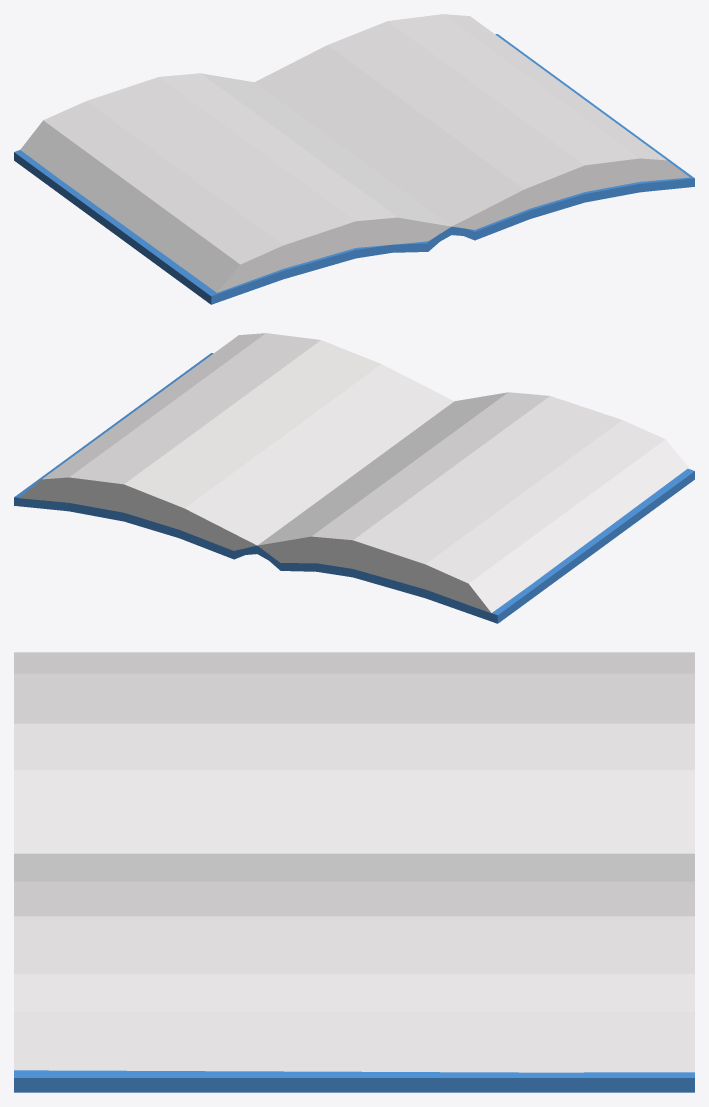
Rendered from OpenBook.fbx.
The picture shows the model from 3 angles, top to bottom: view 1: azimuth 30°, elevation 25°; view 2: azimuth 150°, elevation 25°; view 3: azimuth 270°, elevation 25°; orthographic projection. The views are drawn at different scales.
Parts seen in each view (by area): view 1: Open Book; view 2: Open Book; view 3: Open Book.
Part boxes in pixels (x1,y1,x2,y2): Open Book: (14,14,694,304); Open Book: (14,333,694,623); Open Book: (14,652,694,1092).
Bounding box in the file's own units: 114 × 10.83 × 80.14.
